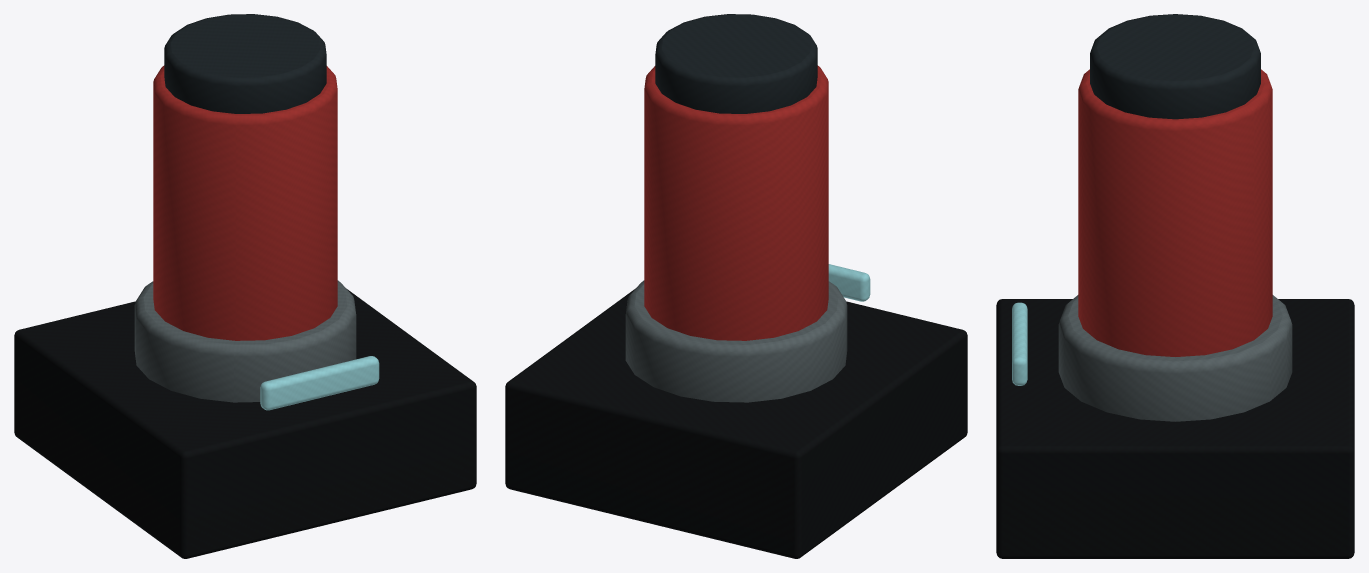
File: FloorWarningBeacon.glb
3 renders of one model, left to right at view 1: azimuth 30°, elevation 25°; view 2: azimuth 150°, elevation 25°; view 3: azimuth 270°, elevation 25°, orthographic. The views are drawn at different scales.
Visible parts, largest first — view 1: FloorWarningBeacon_Mesh; view 2: FloorWarningBeacon_Mesh; view 3: FloorWarningBeacon_Mesh.
Part boxes in pixels (bbox=[...]): FloorWarningBeacon_Mesh: bbox=[14, 14, 476, 558]; FloorWarningBeacon_Mesh: bbox=[505, 14, 967, 558]; FloorWarningBeacon_Mesh: bbox=[996, 14, 1354, 558].
Bounding box in the file's own units: 0.46 × 0.62 × 0.46.
Materials: 5 (5 with a texture image).
